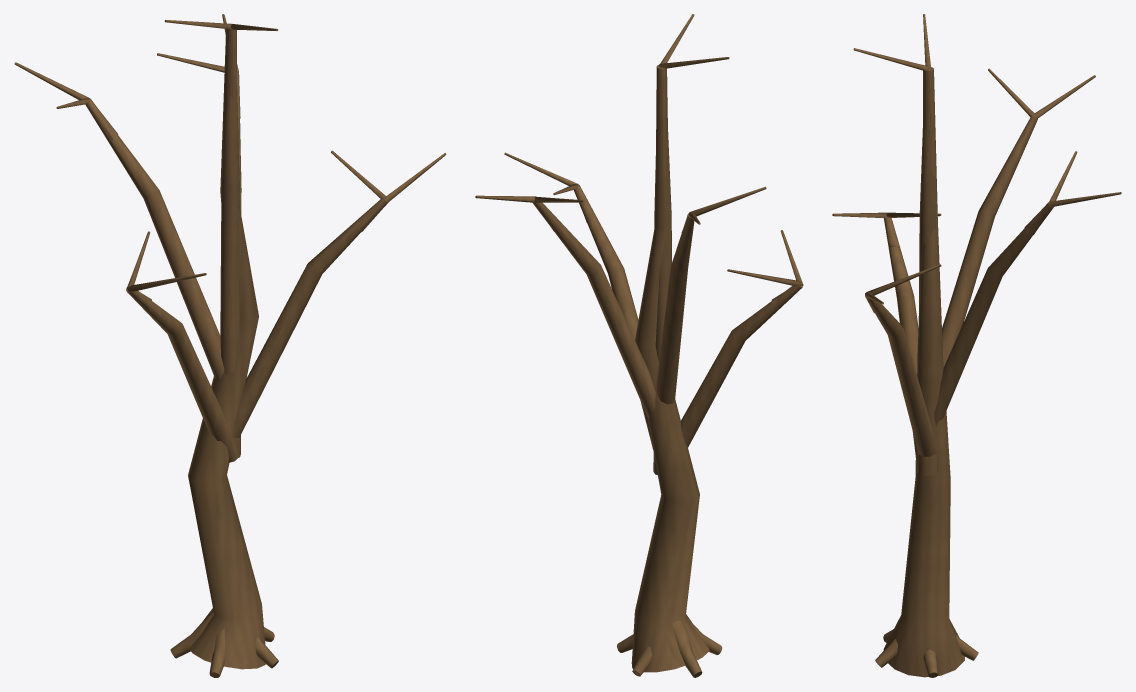
The model's file is tree-trunk-young.glb.
3 renders of one model, left to right at view 1: azimuth 30°, elevation 25°; view 2: azimuth 150°, elevation 25°; view 3: azimuth 270°, elevation 25°, orthographic. The views are drawn at different scales.
Parts seen in each view (by area): view 1: tree-trunk-young / N03 / warm ridged bark; view 2: tree-trunk-young / N03 / warm ridged bark; view 3: tree-trunk-young / N03 / warm ridged bark.
Part boxes in pixels (x1,y1,x2,y2): tree-trunk-young / N03 / warm ridged bark: (14,14,446,677); tree-trunk-young / N03 / warm ridged bark: (475,14,803,677); tree-trunk-young / N03 / warm ridged bark: (832,14,1121,677).
Size of the model in its own units: 1.74 by 3.28 by 1.39.
Materials: 1 (1 with a texture image).
